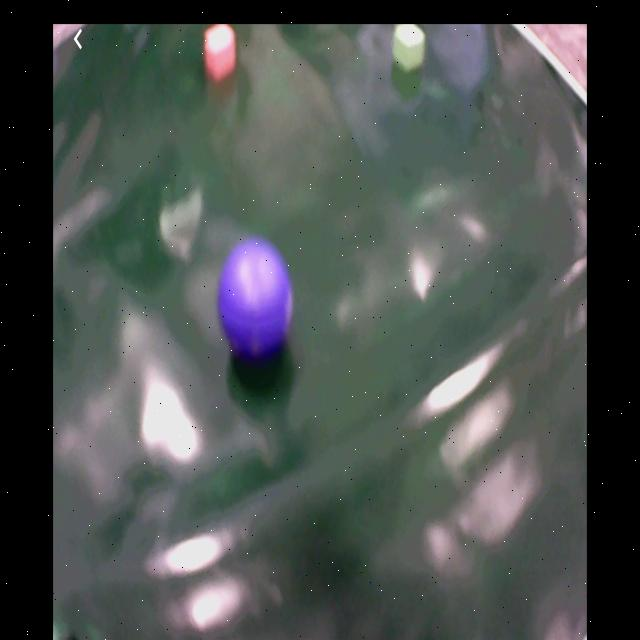ball: (221, 247, 296, 359)
